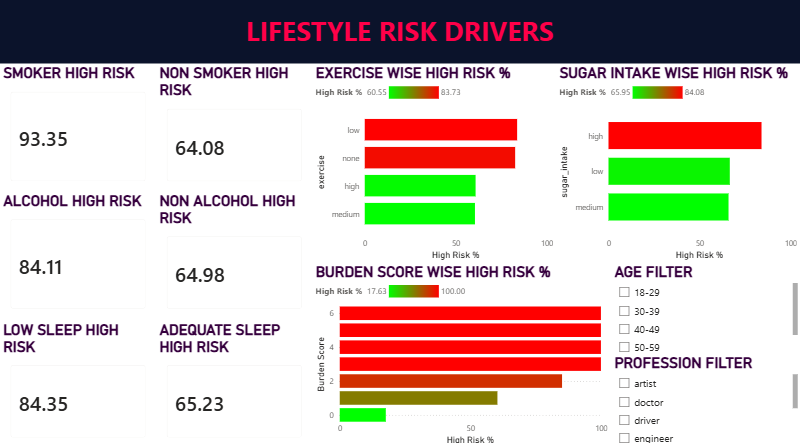

The page's visual inventory and layout, read from the dashboard file:
{"tool":"powerbi","page":{"name":"Lifestyle Risk Drivers","canvas":[1280,720],"ordinal":1},"visuals":[{"type":"textbox","box":[0,0,1280,105],"z":0},{"type":"cardVisual","title":"SMOKER HIGH RISK","fields":{"Data":["health_risk_db customers.Smoker High Risk %"]},"box":[0,105,250,205],"z":1000},{"type":"cardVisual","title":"ALCOHOL HIGH RISK","fields":{"Data":["health_risk_db customers.Alcohol High Risk %"]},"box":[0,310,250,205],"z":2000},{"type":"cardVisual","title":"LOW SLEEP HIGH RISK","fields":{"Data":["health_risk_db customers.Low Sleep High Risk %"]},"box":[0,515,250,205],"z":3000},{"type":"cardVisual","title":"NON SMOKER HIGH RISK","fields":{"Data":["health_risk_db customers.Non-Smoker High Risk %"]},"box":[250,105,250,205],"z":4000},{"type":"cardVisual","title":"NON ALCOHOL HIGH RISK","fields":{"Data":["health_risk_db customers.No Alcohol High Risk %"]},"box":[250,310,250,205],"z":5000},{"type":"cardVisual","title":"ADEQUATE SLEEP HIGH RISK","fields":{"Data":["health_risk_db customers.Adequate Sleep High Risk %"]},"box":[250,515,250,205],"z":6000},{"type":"clusteredBarChart","title":"BURDEN SCORE WISE HIGH RISK %","fields":{"Category":["health_risk_db customers.Burden Score"],"Y":["health_risk_db customers.High Risk %"]},"box":[500,423.3,476.7,296.7],"z":7000},{"type":"clusteredBarChart","title":"EXERCISE WISE HIGH RISK %","fields":{"Category":["health_risk_db lifestyle_factors.exercise"],"Y":["health_risk_db customers.High Risk %"]},"box":[500,105,390,318.3],"z":8000},{"type":"clusteredBarChart","title":"SUGAR INTAKE WISE HIGH RISK %","fields":{"Category":["health_risk_db lifestyle_factors.sugar_intake"],"Y":["health_risk_db customers.High Risk %"]},"box":[890,105,390,318],"z":9000},{"type":"slicer","title":"AGE FILTER","fields":{"Values":["health_risk_db customers.Age Group"]},"box":[977,423,303,147],"z":10000},{"type":"slicer","title":"PROFESSION FILTER","fields":{"Values":["health_risk_db customers.profession"]},"box":[977,570,303,150],"z":11000}]}

Visuals, with their boxes in screenshot pixels (x1, y1, x2, y2), scaled from the page's 1280x720 canvas onto the 800x443 screenshot:
textbox: detection(0, 0, 799, 65)
"SMOKER HIGH RISK" cardVisual: detection(0, 65, 156, 191)
"ALCOHOL HIGH RISK" cardVisual: detection(0, 191, 156, 317)
"LOW SLEEP HIGH RISK" cardVisual: detection(0, 317, 156, 442)
"NON SMOKER HIGH RISK" cardVisual: detection(156, 65, 312, 191)
"NON ALCOHOL HIGH RISK" cardVisual: detection(156, 191, 312, 317)
"ADEQUATE SLEEP HIGH RISK" cardVisual: detection(156, 317, 312, 442)
"BURDEN SCORE WISE HIGH RISK %" clusteredBarChart: detection(312, 260, 610, 442)
"EXERCISE WISE HIGH RISK %" clusteredBarChart: detection(312, 65, 556, 260)
"SUGAR INTAKE WISE HIGH RISK %" clusteredBarChart: detection(556, 65, 799, 260)
"AGE FILTER" slicer: detection(611, 260, 799, 351)
"PROFESSION FILTER" slicer: detection(611, 351, 799, 442)
